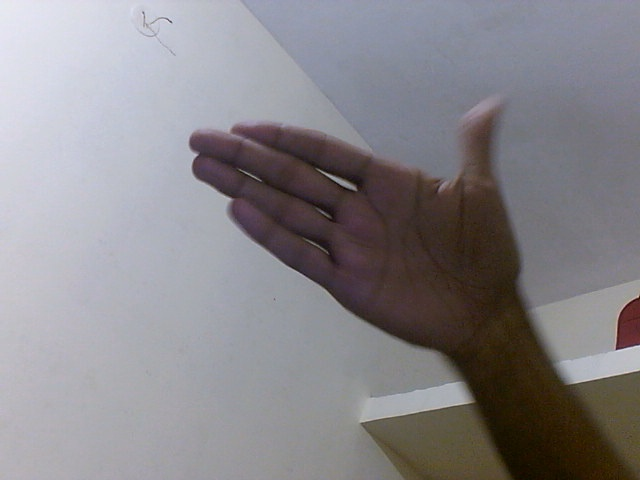hand: (189, 91, 531, 358)
